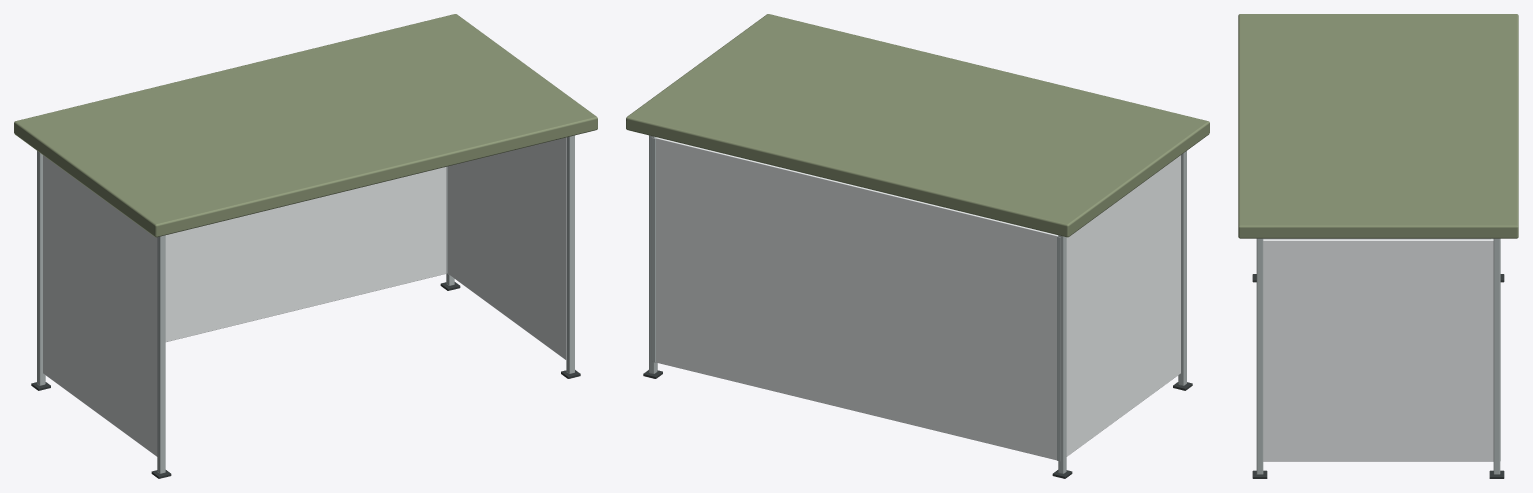
The model's file is mountain-border-checkpoint-mountain-border-checkpoint--0b6d3743__30291.glb.
3 renders of one model, left to right at view 1: azimuth 30°, elevation 25°; view 2: azimuth 150°, elevation 25°; view 3: azimuth 270°, elevation 25°, orthographic.
Parts seen in each view (by area): view 1: mountain-border-checkpoint-passenger-shelter; view 2: mountain-border-checkpoint-passenger-shelter; view 3: mountain-border-checkpoint-passenger-shelter.
Part boxes in pixels (left/top/right/bottom): mountain-border-checkpoint-passenger-shelter: left=14, top=14, right=597, bottom=478; mountain-border-checkpoint-passenger-shelter: left=626, top=14, right=1209, bottom=478; mountain-border-checkpoint-passenger-shelter: left=1238, top=14, right=1518, bottom=478.
Bounding box in the file's own units: 4.85 × 2.74 × 2.7.
